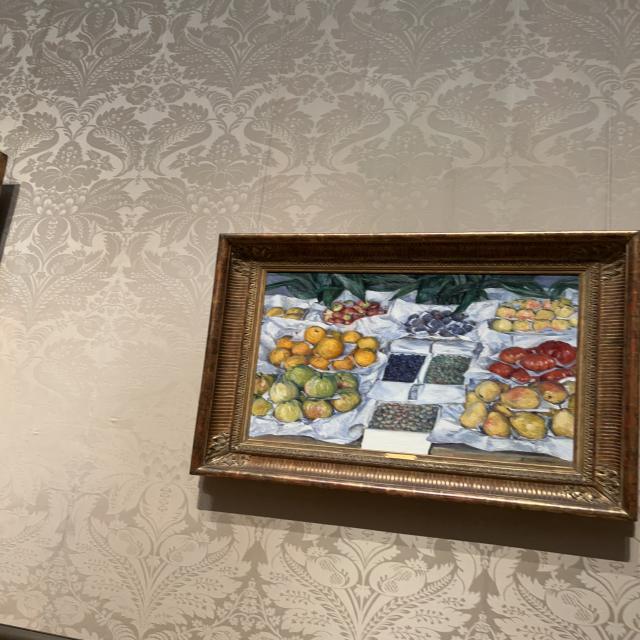fruits: (246, 273, 580, 467)
